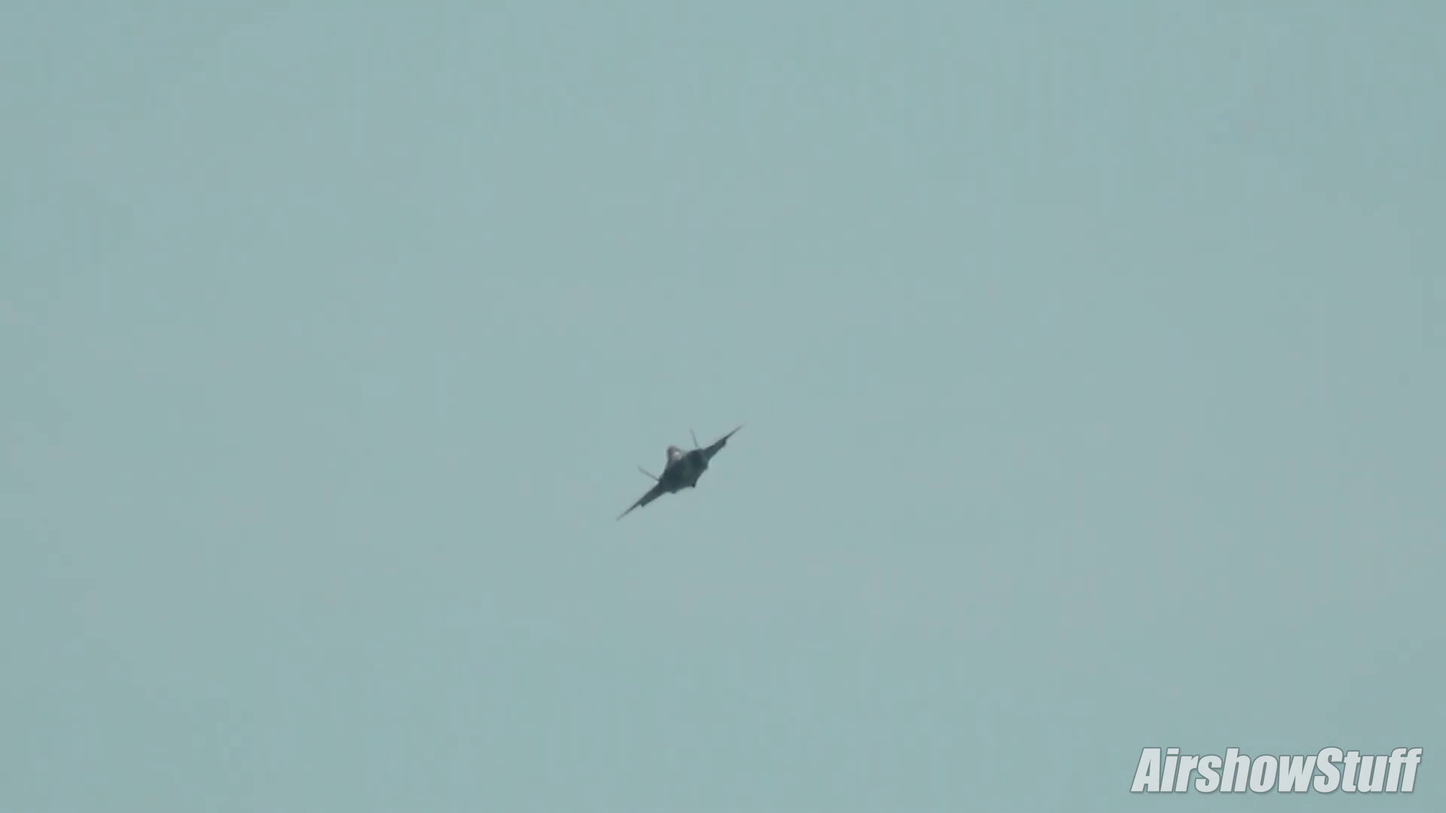F35: (614, 405, 751, 524)
